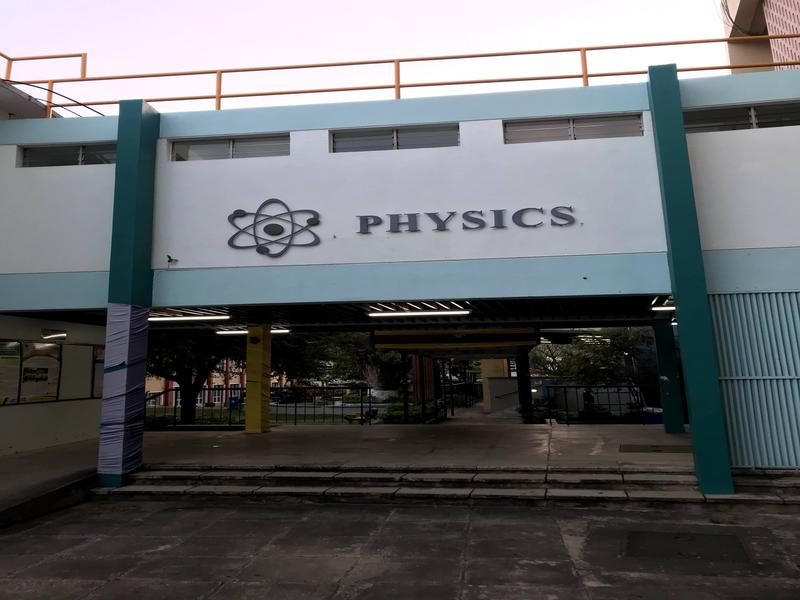18.0053657_-76.7491452_physicssign: (216, 187, 597, 255)
